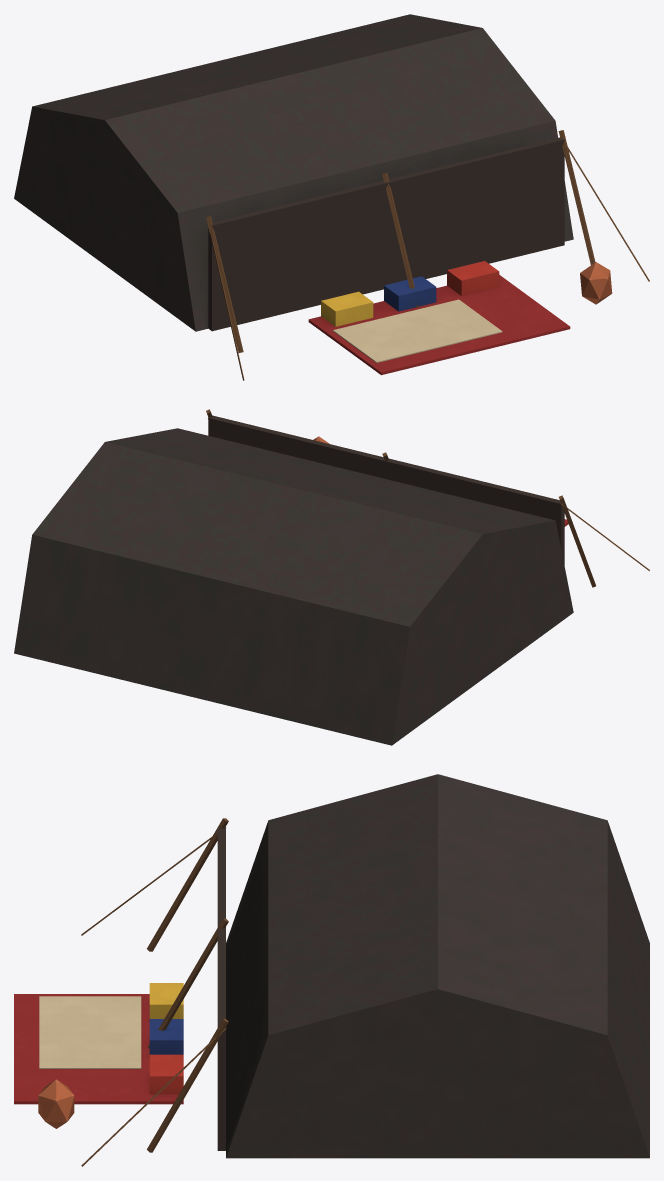
File: talt_beduin_tex.glb
The picture shows the model from 3 angles, top to bottom: view 1: azimuth 30°, elevation 25°; view 2: azimuth 150°, elevation 25°; view 3: azimuth 270°, elevation 25°; orthographic projection. The views are drawn at different scales.
Parts seen in each view (by area): view 1: talt_beduin; view 2: talt_beduin; view 3: talt_beduin.
Part boxes in pixels (bbox=[...]): talt_beduin: bbox=[14, 14, 649, 380]; talt_beduin: bbox=[14, 409, 649, 745]; talt_beduin: bbox=[14, 774, 649, 1166].
Size of the model in its own units: 6.45 by 2.22 by 7.5.
9 materials, 8 textured.
